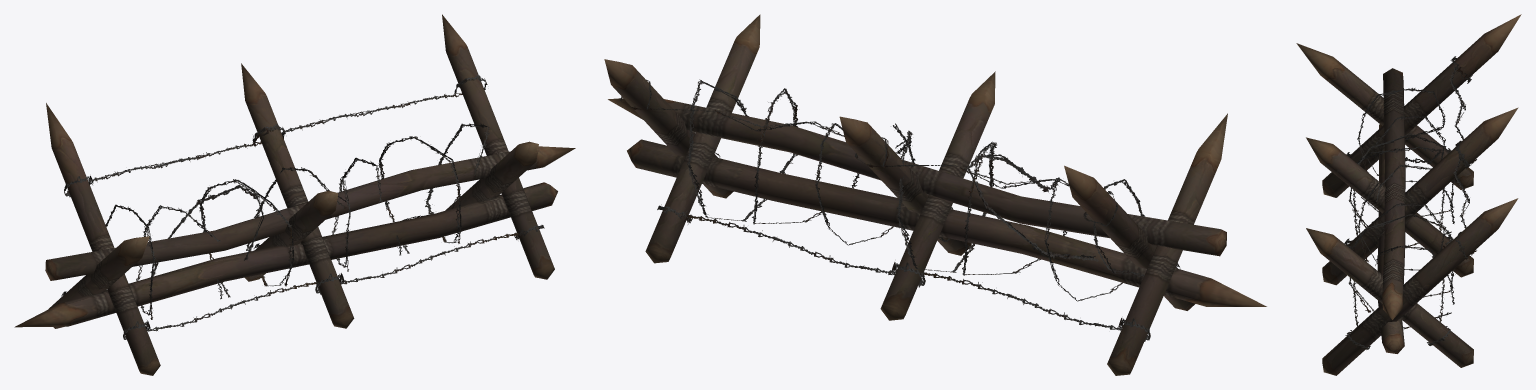
The model's file is mn_obstacle.FBX.
3 views of the same model, side by side, from view 1: azimuth 30°, elevation 25°; view 2: azimuth 150°, elevation 25°; view 3: azimuth 270°, elevation 25° (orthographic). The views are drawn at different scales.
Parts seen in each view (by area): view 1: mn_obstacle; view 2: mn_obstacle; view 3: mn_obstacle.
Part boxes in pixels (x1,y1,x2,y2): mn_obstacle: [14, 14, 575, 375]; mn_obstacle: [604, 14, 1266, 375]; mn_obstacle: [1296, 14, 1521, 375].
Size of the model in its own units: 3.12 by 1.04 by 1.17.
1 material, 1 textured.
